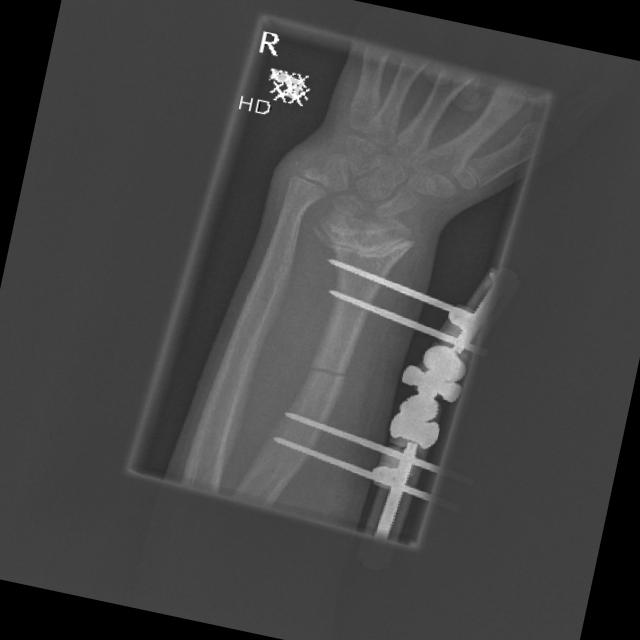fingers positive: (255, 149, 459, 283), (277, 328, 374, 405)
